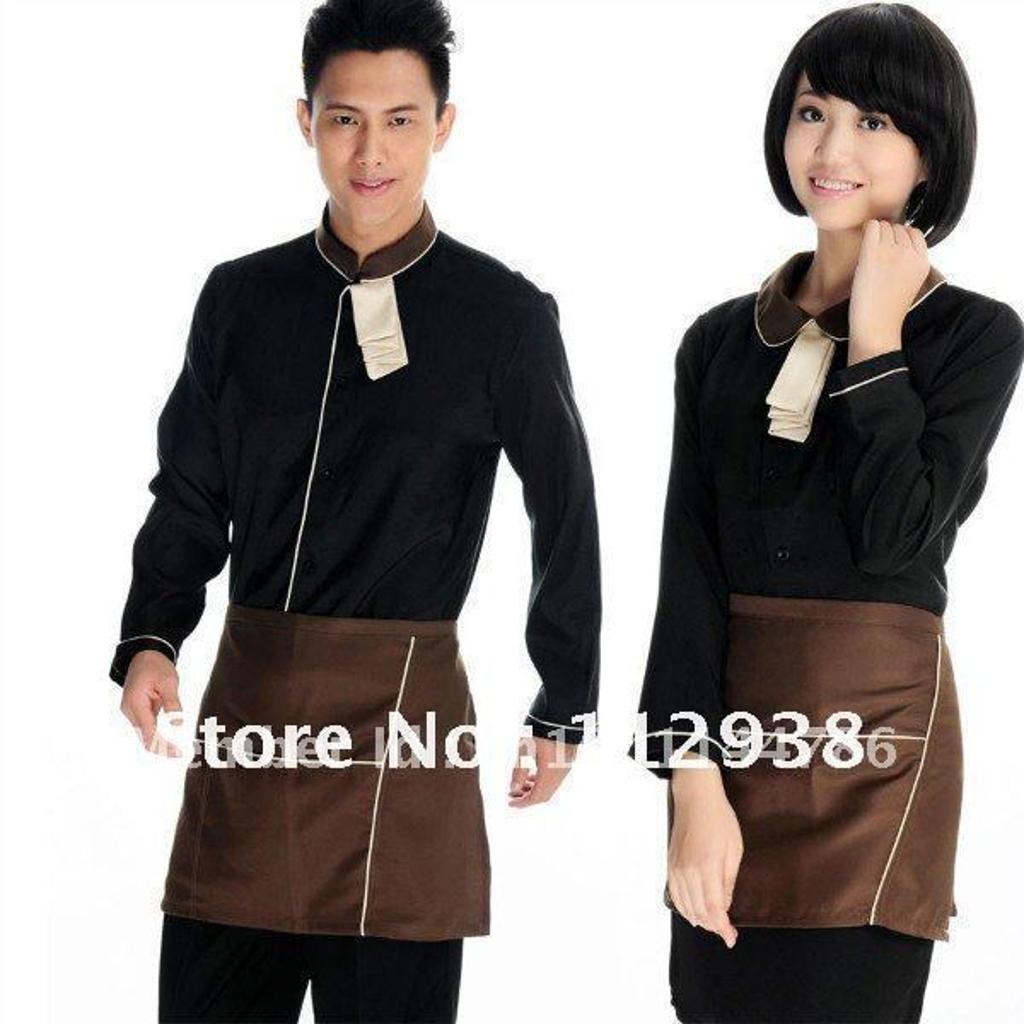face: (784, 22, 924, 226), (310, 42, 438, 228)
